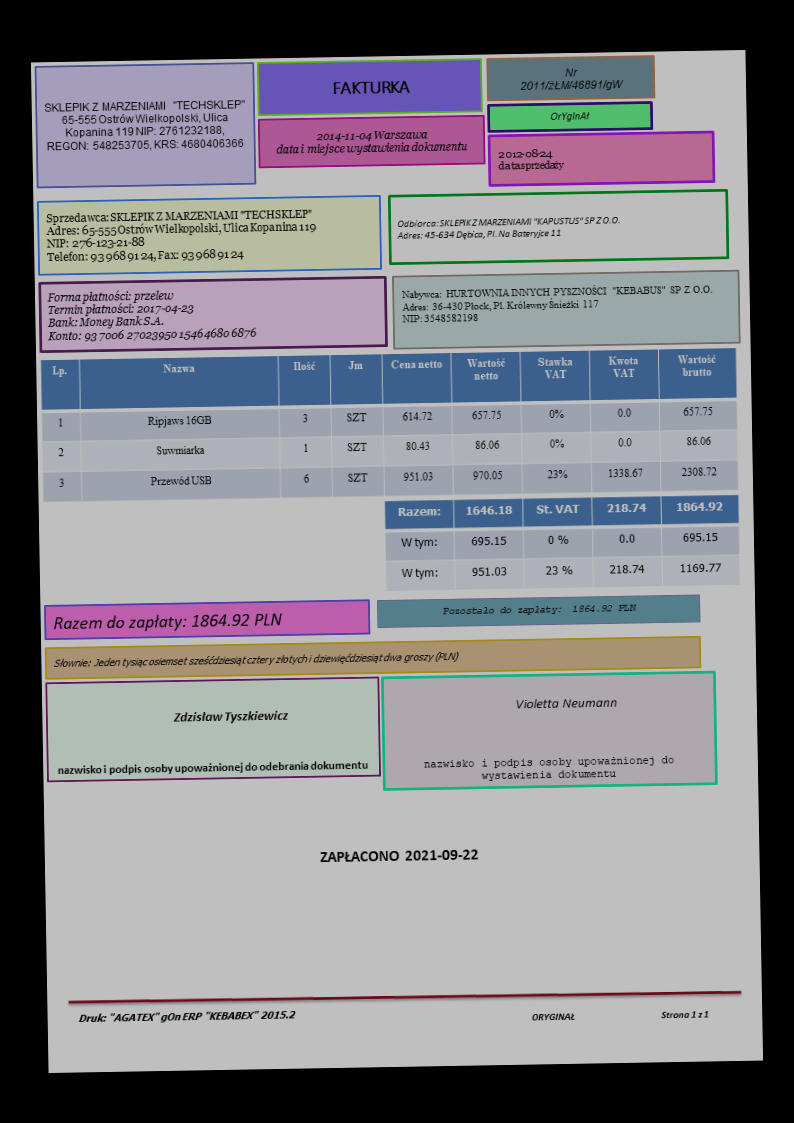Table: (38, 345, 739, 503), (382, 494, 740, 593)
TextBox: (42, 203, 320, 267), (398, 282, 714, 328), (44, 284, 260, 346), (41, 96, 247, 155), (50, 648, 461, 672), (420, 751, 680, 784), (394, 211, 620, 242), (53, 756, 371, 778), (49, 609, 284, 636), (273, 127, 470, 159), (74, 1005, 300, 1028), (516, 63, 626, 95), (316, 845, 482, 866), (437, 600, 638, 617), (526, 1006, 713, 1024), (171, 704, 290, 726), (493, 145, 566, 176), (512, 693, 617, 713), (330, 77, 413, 99), (548, 108, 593, 125)
